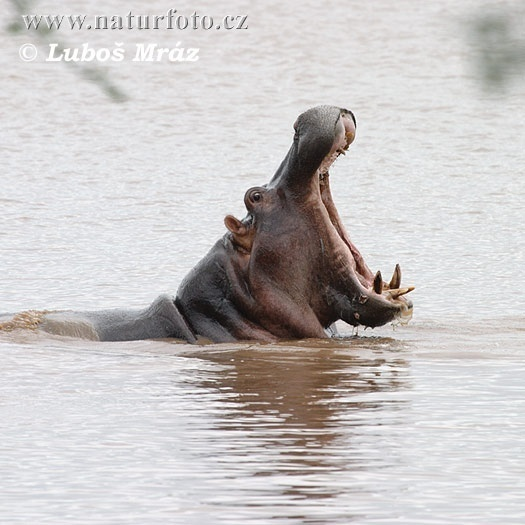hipopotamo: (1, 82, 451, 361)
